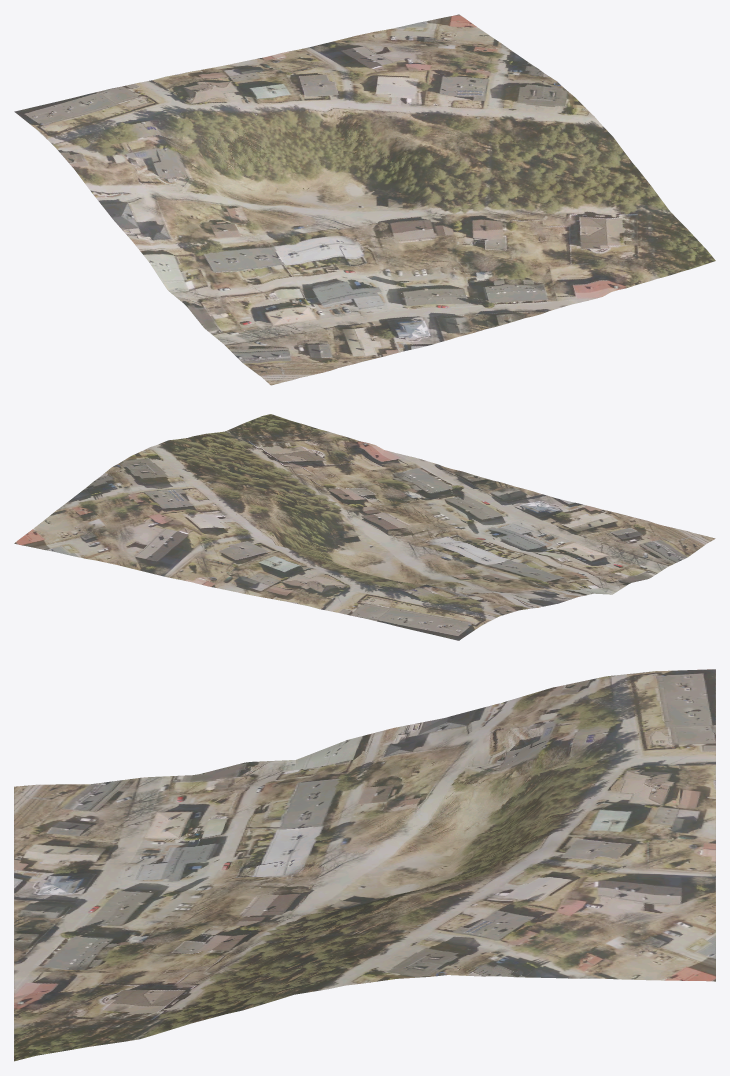
Rendered from CM_Terrain_24489434_6820204.fbx.
The picture shows the model from 3 angles, top to bottom: view 1: azimuth 30°, elevation 25°; view 2: azimuth 150°, elevation 25°; view 3: azimuth 270°, elevation 25°; orthographic projection. The views are drawn at different scales.
Parts seen in each view (by area): view 1: CM_Terrain_24489434_6820204_LOD0; view 2: CM_Terrain_24489434_6820204_LOD0; view 3: CM_Terrain_24489434_6820204_LOD0.
Part boxes in pixels (x1,y1,x2,y2): CM_Terrain_24489434_6820204_LOD0: (14,14,715,385); CM_Terrain_24489434_6820204_LOD0: (14,414,715,640); CM_Terrain_24489434_6820204_LOD0: (14,669,715,1061).
Size of what is drawn, in the model's own units: 205 by 38 by 205.
